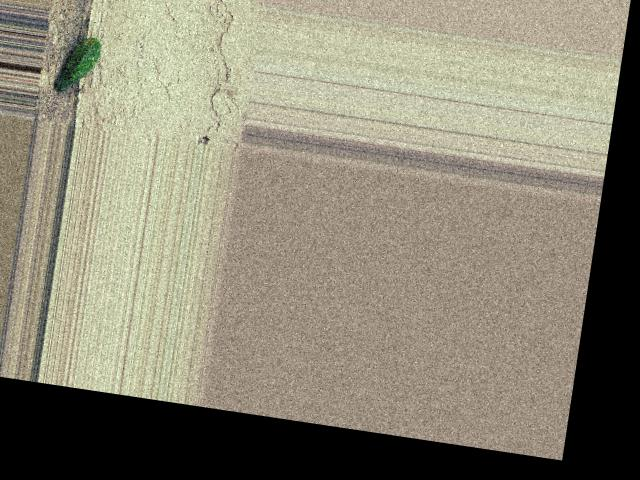cucumber: (55, 32, 103, 95)
